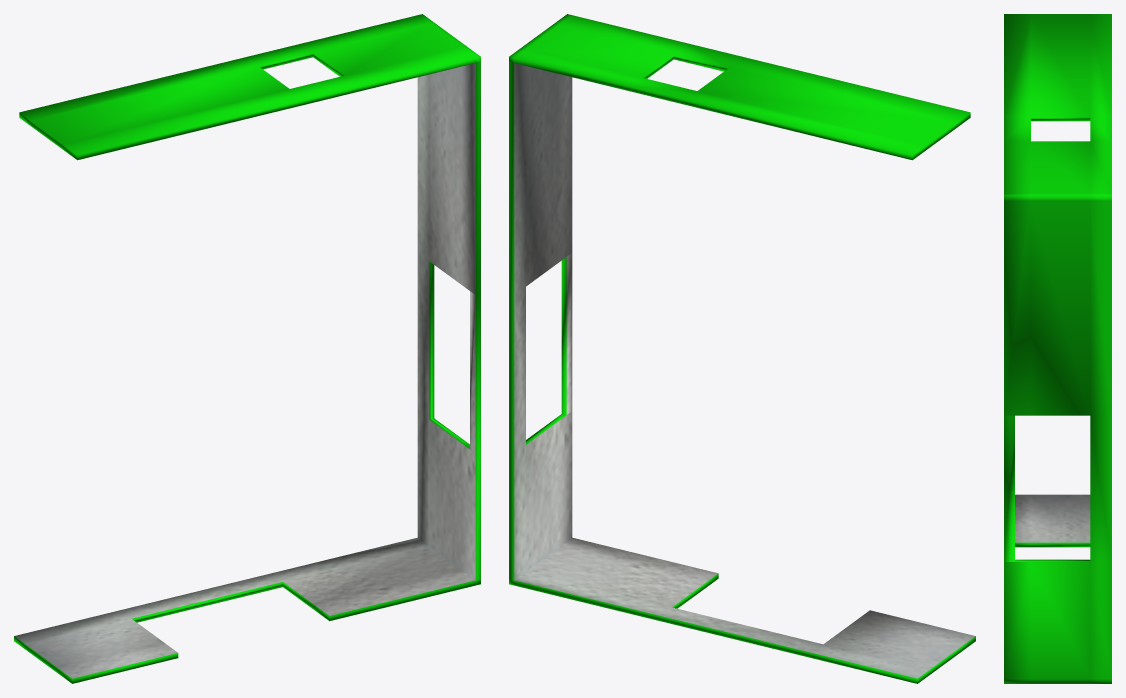
The model's file is wall_living_v2.fbx.
3 views of the same model, side by side, from view 1: azimuth 30°, elevation 25°; view 2: azimuth 150°, elevation 25°; view 3: azimuth 270°, elevation 25° (orthographic). The views are drawn at different scales.
Visible parts, largest first — view 1: Cube.001; view 2: Cube.001; view 3: Cube.001.
Boxes of the visible parts, left/top/right/bottom form: Cube.001: left=14, top=14, right=480, bottom=683; Cube.001: left=509, top=14, right=975, bottom=683; Cube.001: left=1004, top=14, right=1111, bottom=683.
Bounding box in the file's own units: 0.0405 × 0.05 × 0.01.
